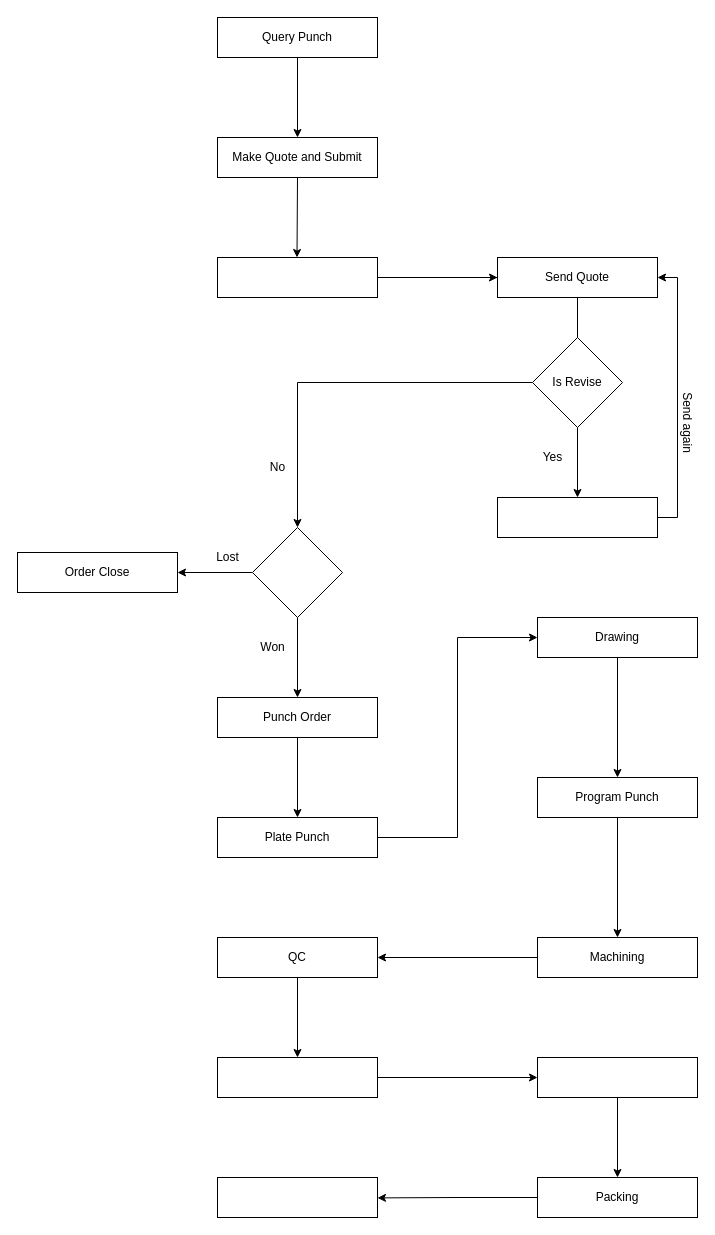
The diagram is 715 pixels wide and 1235 high, and some of its shapes have lost their labels. Each missing label, with the box of its shape:
Check: (252, 526, 342, 618)
Dispatch: (216, 1176, 378, 1218)
Dispatch Order or Raise Bill: (216, 1056, 378, 1098)
Make Invoice: (536, 1056, 698, 1098)
Quote Punch: (216, 256, 378, 298)
Revise Quote: (496, 496, 658, 538)
